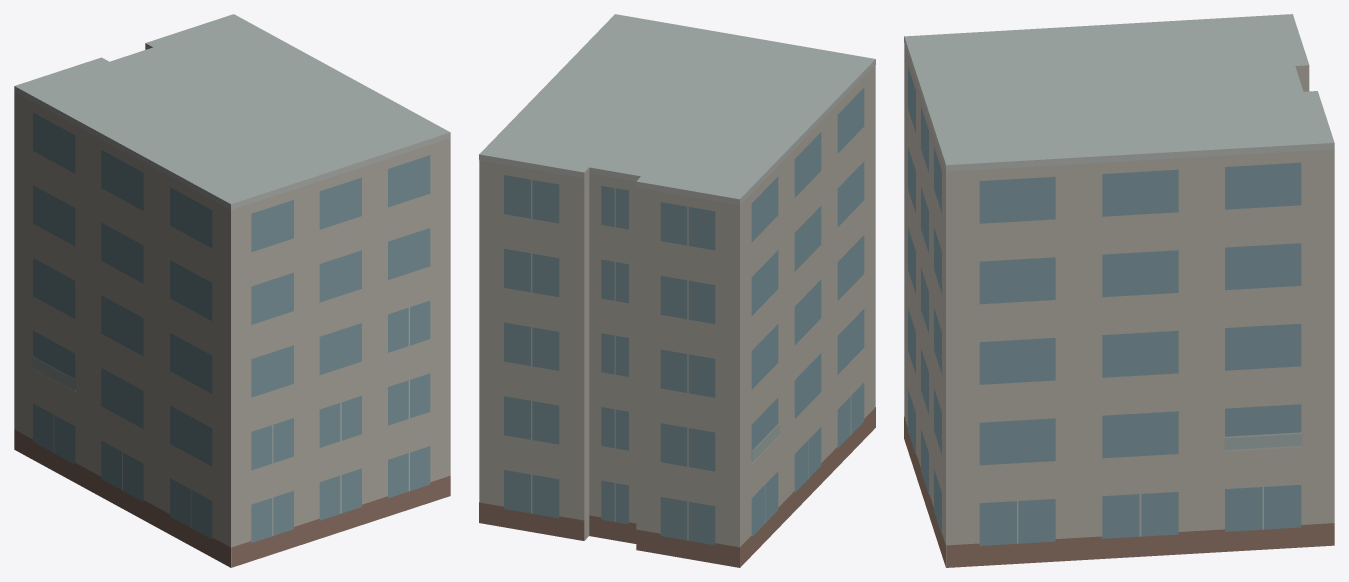
The model's file is survey-upis-32764414.glb.
3 renders of one model, left to right at view 1: azimuth 30°, elevation 25°; view 2: azimuth 150°, elevation 25°; view 3: azimuth 270°, elevation 25°, orthographic. The views are drawn at different scales.
Parts seen in each view (by area): view 1: survey-upis-32764414.tmp; view 2: survey-upis-32764414.tmp; view 3: survey-upis-32764414.tmp.
Part boxes in pixels (left/top/right/bottom): survey-upis-32764414.tmp: left=14, top=14, right=450, bottom=567; survey-upis-32764414.tmp: left=479, top=14, right=875, bottom=567; survey-upis-32764414.tmp: left=904, top=14, right=1334, bottom=567.
Bounding box in the file's own units: 12.31 × 15.27 × 14.81.
